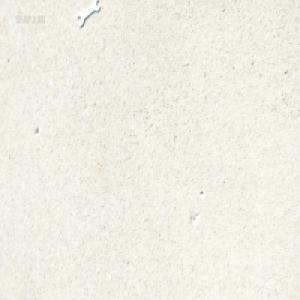Wrench: (77, 2, 100, 27)
